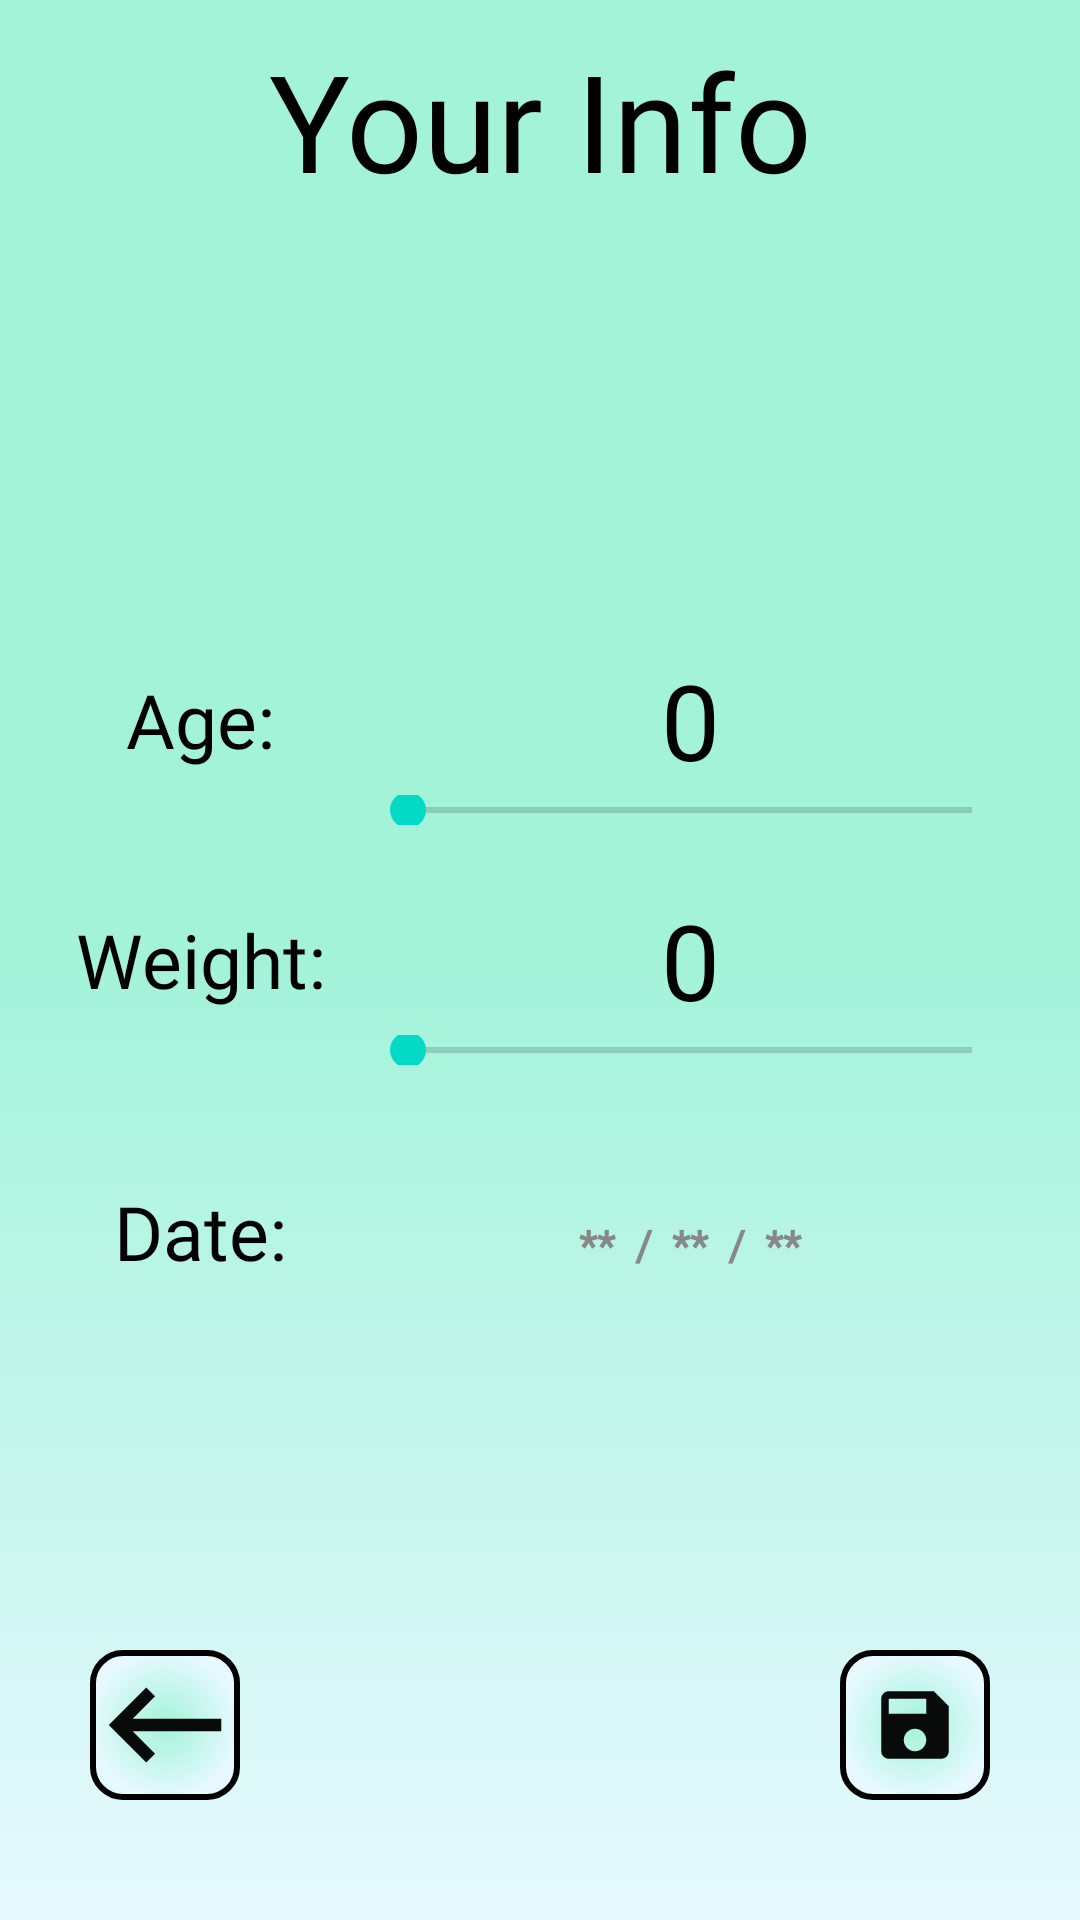

Icons on this 1080*1920 Android screen, each with its box as rect(x1, y1, x2, y2):
keyboard backspace: rect(90, 1650, 240, 1800)
save: rect(840, 1650, 990, 1800)
